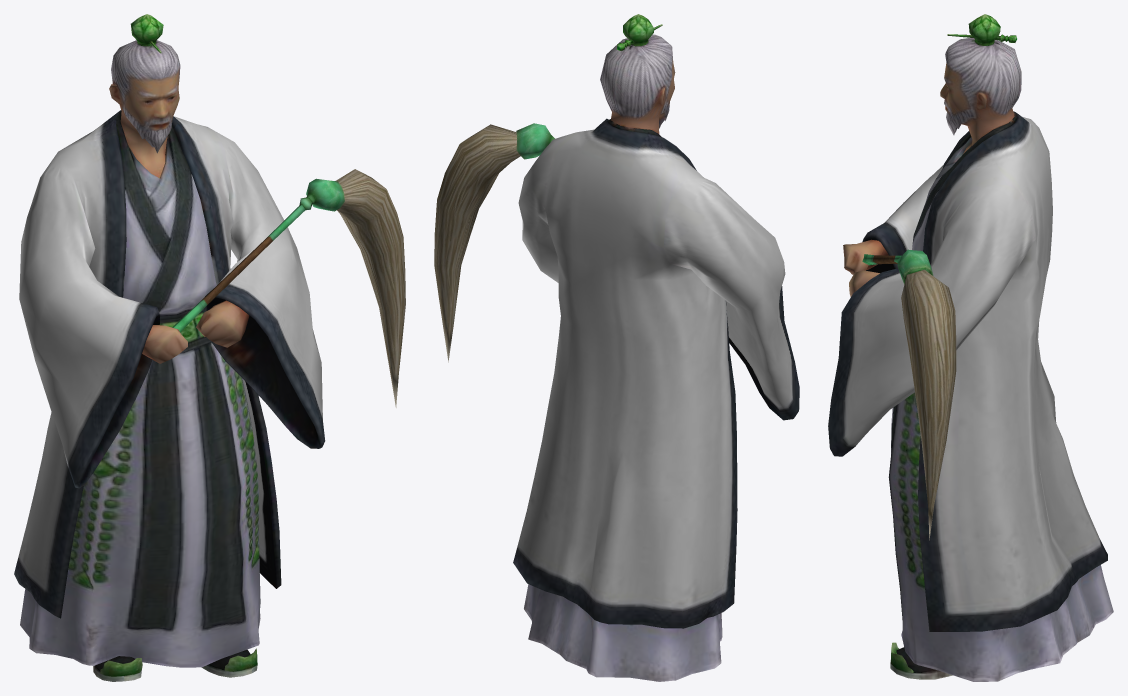
Rendered from 94-sage.glb.
3 views of the same model, side by side, from view 1: azimuth 30°, elevation 25°; view 2: azimuth 150°, elevation 25°; view 3: azimuth 270°, elevation 25° (orthographic).
Size of the model in its own units: 1.51 by 2.59 by 1.06.
2 materials, 2 textured.
